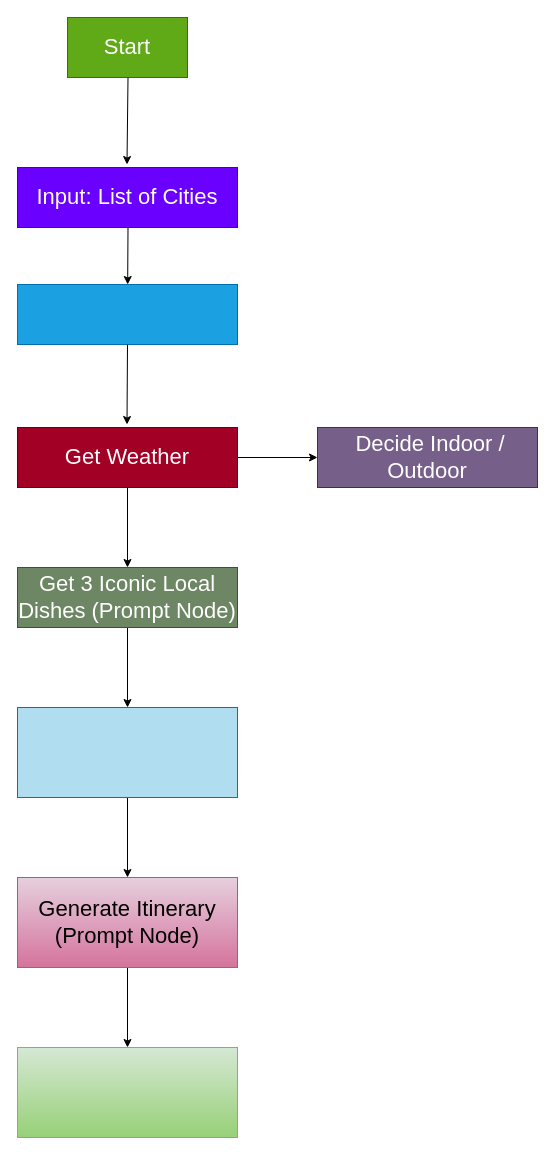
Some shapes in this 555 by 1155 pixel diagram are drawn without their labels. The shapes that lost their labels are listed below. From the top down, each one's centre as x and y in pixels, then its label:
the point at 127,314: Loop: For Each City
the point at 127,752: Find Top-Rated Restaurants (Prompt Node)
the point at 127,1092: Output: Breakfast, Lunch, Dinner Plan
